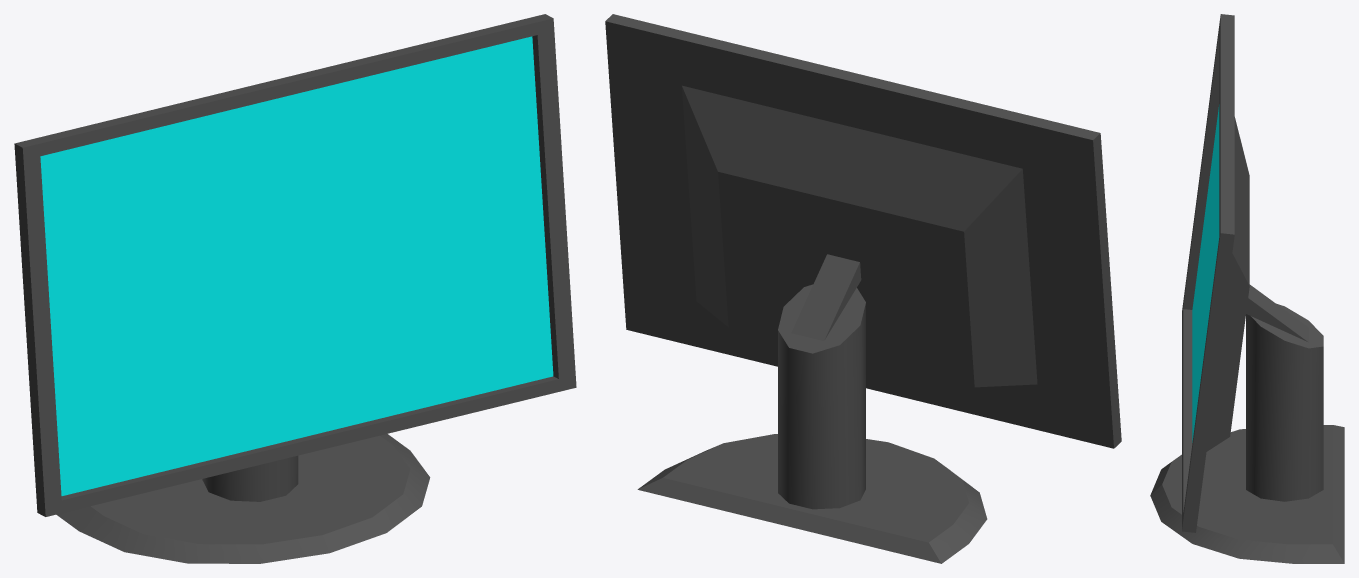
File: Monitor.fbx
The picture shows the model from 3 angles, left to right: view 1: azimuth 30°, elevation 25°; view 2: azimuth 150°, elevation 25°; view 3: azimuth 270°, elevation 25°; orthographic projection. The views are drawn at different scales.
Parts seen in each view (by area): view 1: Monitor; view 2: Monitor; view 3: Monitor.
Part boxes in pixels (box(x1,y1,x2,y2)): Monitor: box(14, 14, 576, 563); Monitor: box(605, 14, 1121, 563); Monitor: box(1150, 14, 1344, 563).
Size of the model in its own units: 2.66 by 2.11 by 0.9994.
